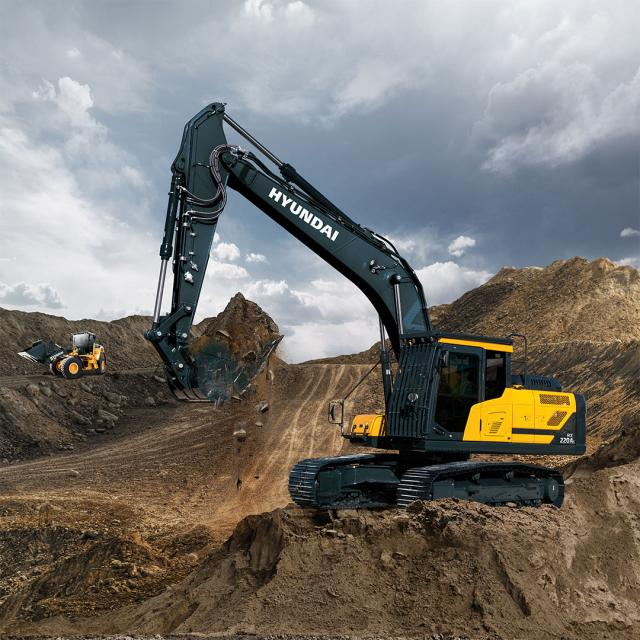excavator: (137, 94, 608, 538)
